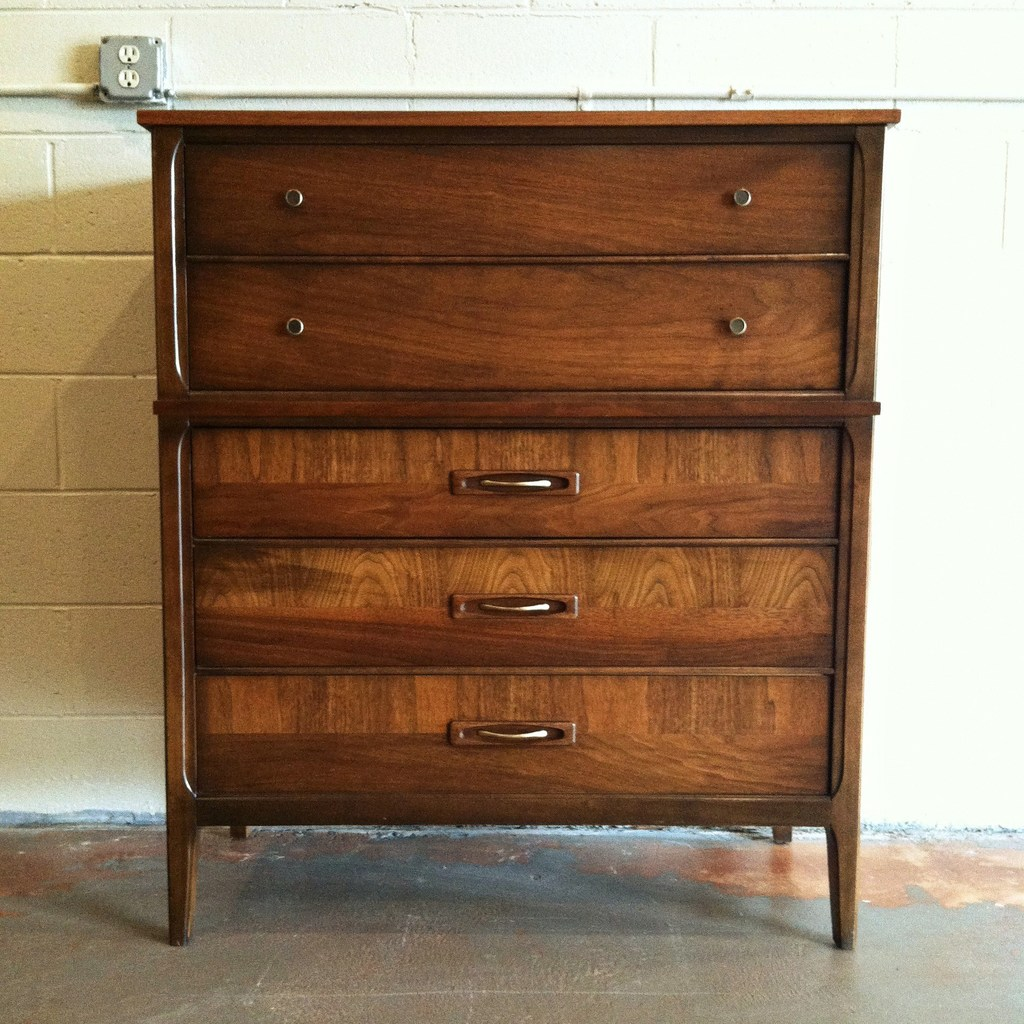cabinet door: (191, 253, 845, 391), (196, 538, 839, 667), (194, 134, 846, 252), (194, 674, 835, 794), (190, 425, 846, 535)
handle: (483, 462, 553, 505), (481, 586, 552, 627), (482, 718, 547, 751), (732, 169, 754, 215), (276, 182, 308, 213), (724, 307, 748, 344), (283, 306, 308, 338)
